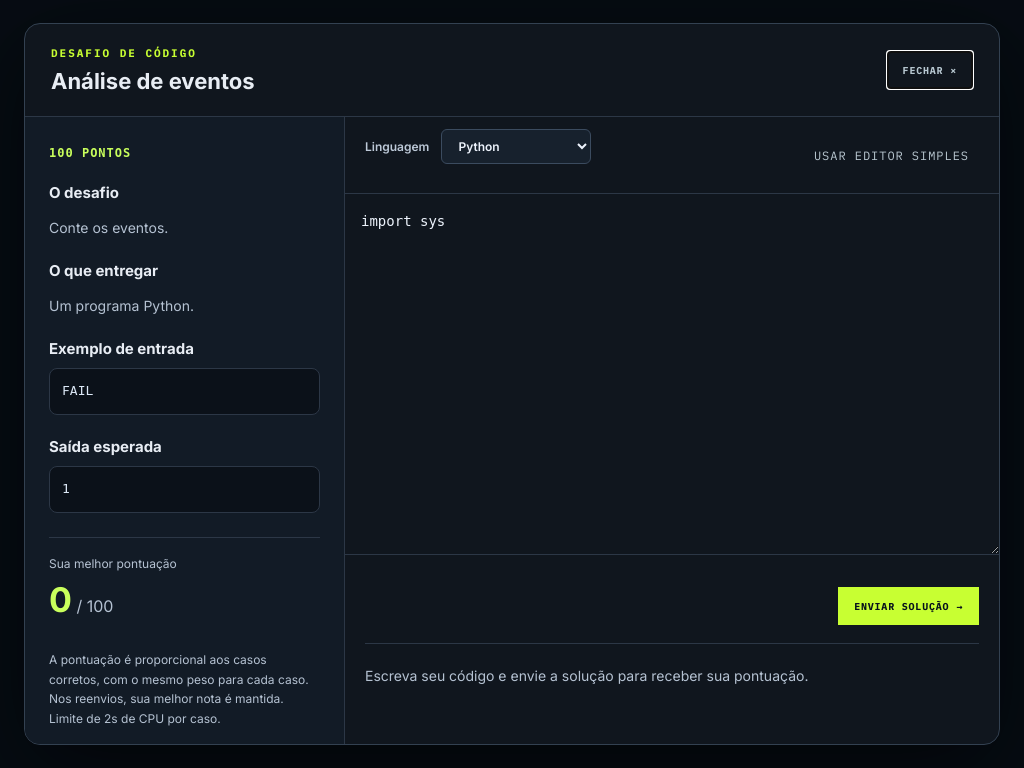
candidate submissions › submits only code and language and displays 66.67 points
Replace the text in the text box named "Editor de código" with "print(1)" at (672, 374), box [345,194,999,554]
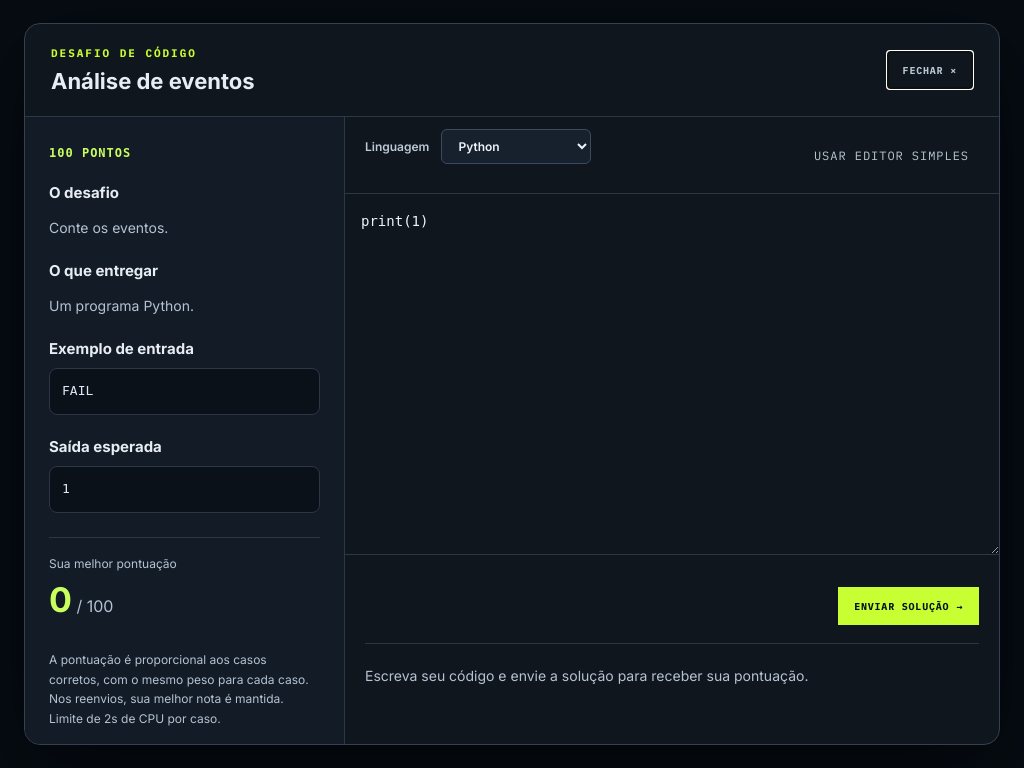
Click the button "ENVIAR SOLUÇÃO →" at (909, 606), box [838,587,979,625]
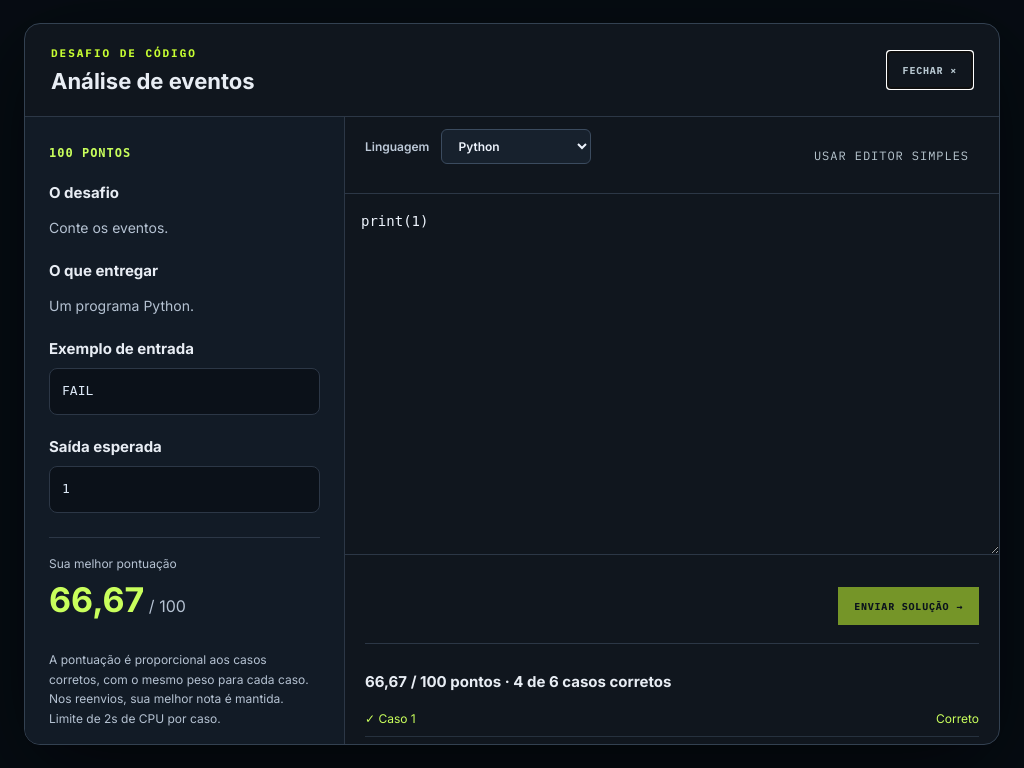
Result: the element showing "66,67 / 100" is shown at [49,579,186,620]
